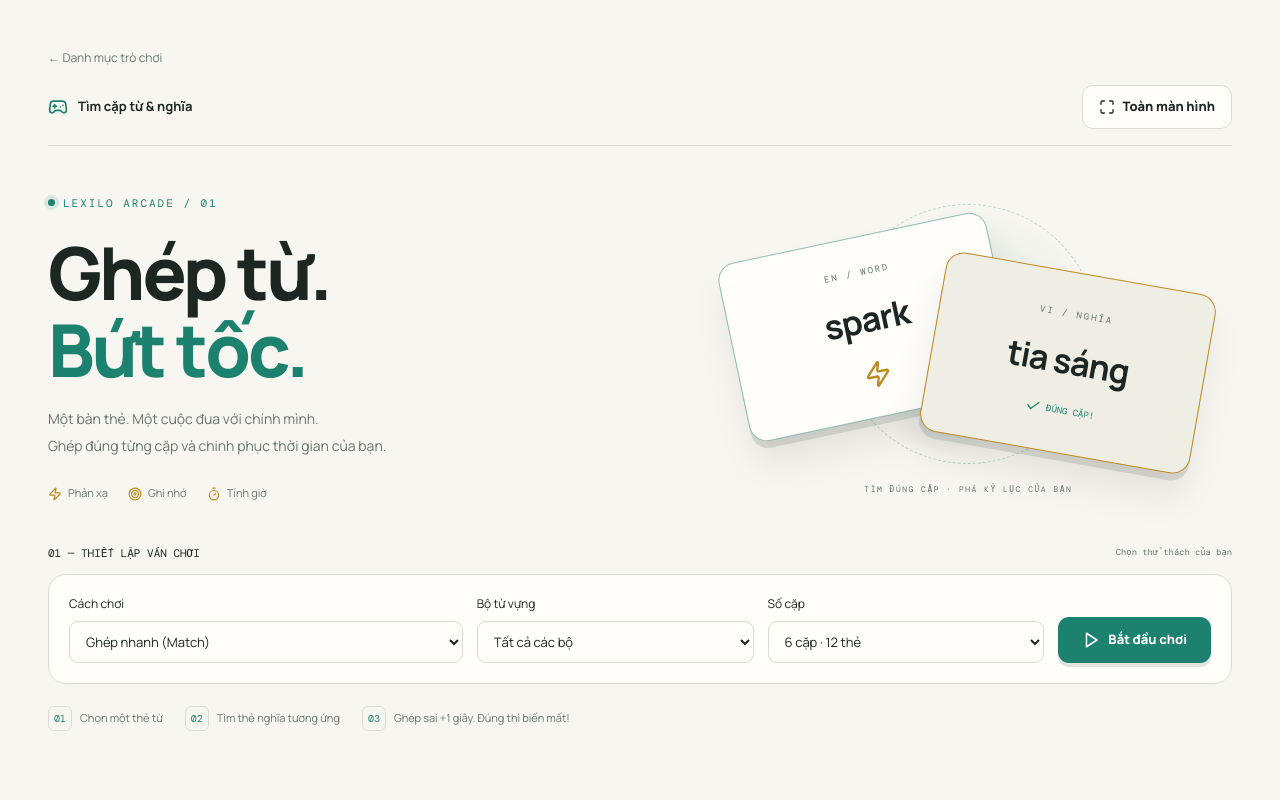
handles insufficient vocabulary and retries a failed request
Select "Lật thẻ ghi nhớ" in the dropdown labelled "Cách chơi" at (266, 642), box left=69, top=621, right=463, bottom=663
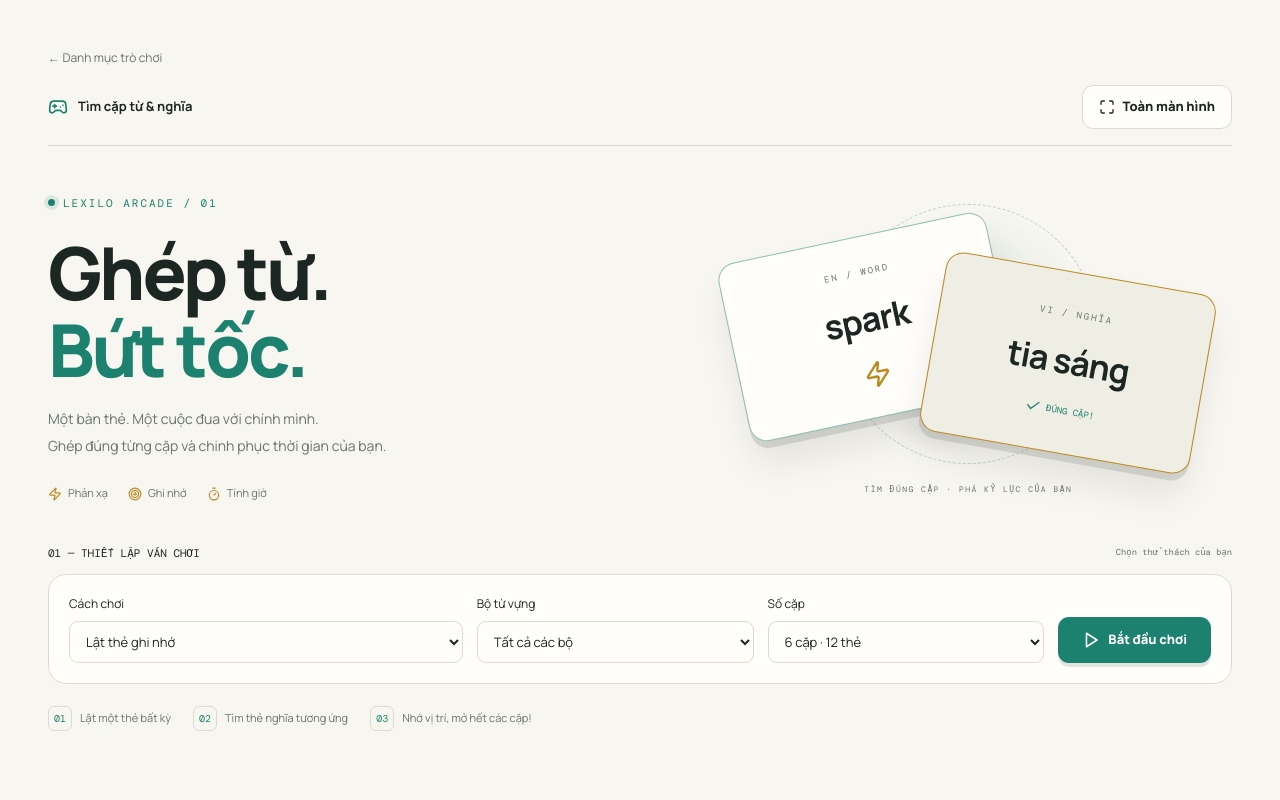
Click the button "Bắt đầu chơi" at (1135, 640), box left=1058, top=617, right=1211, bottom=663
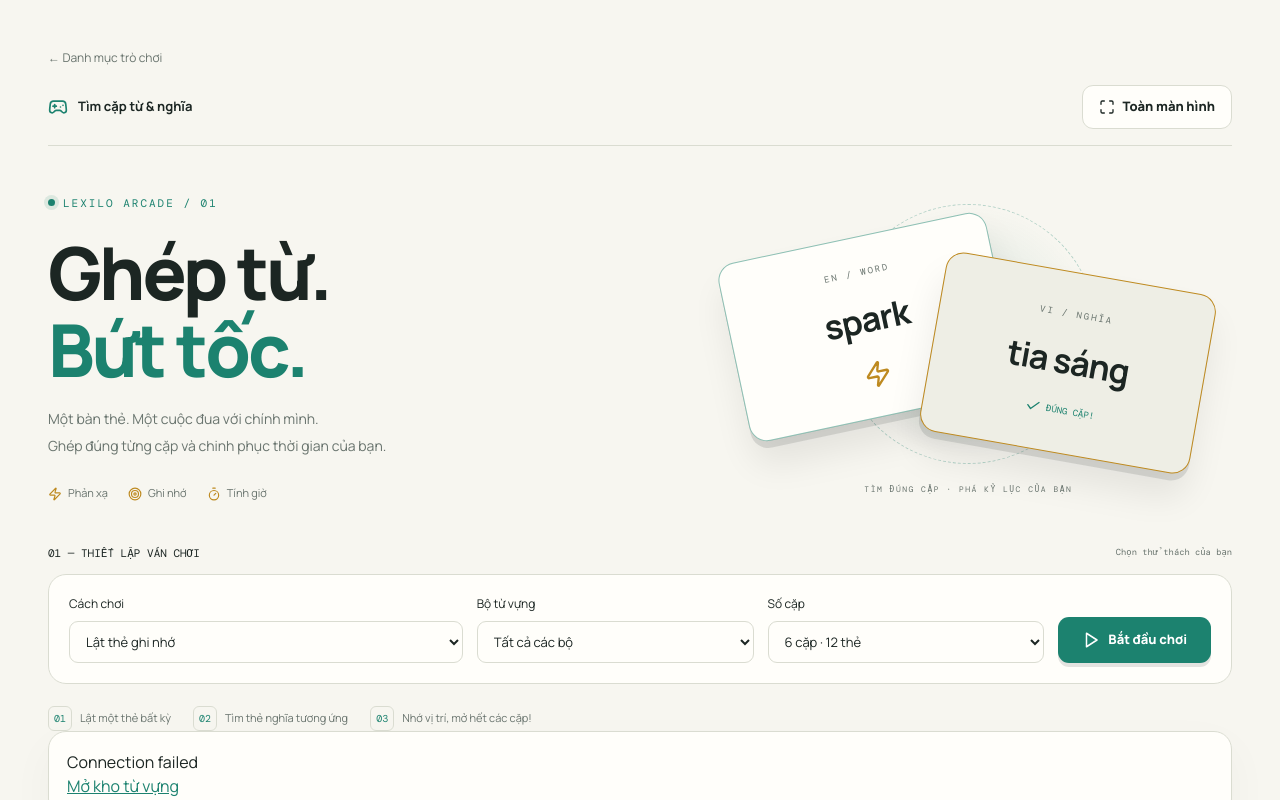
Now the message reads "Connection failed", box left=67, top=751, right=198, bottom=773
Click the button "Bắt đầu chơi" at (1135, 640), box left=1058, top=617, right=1211, bottom=663
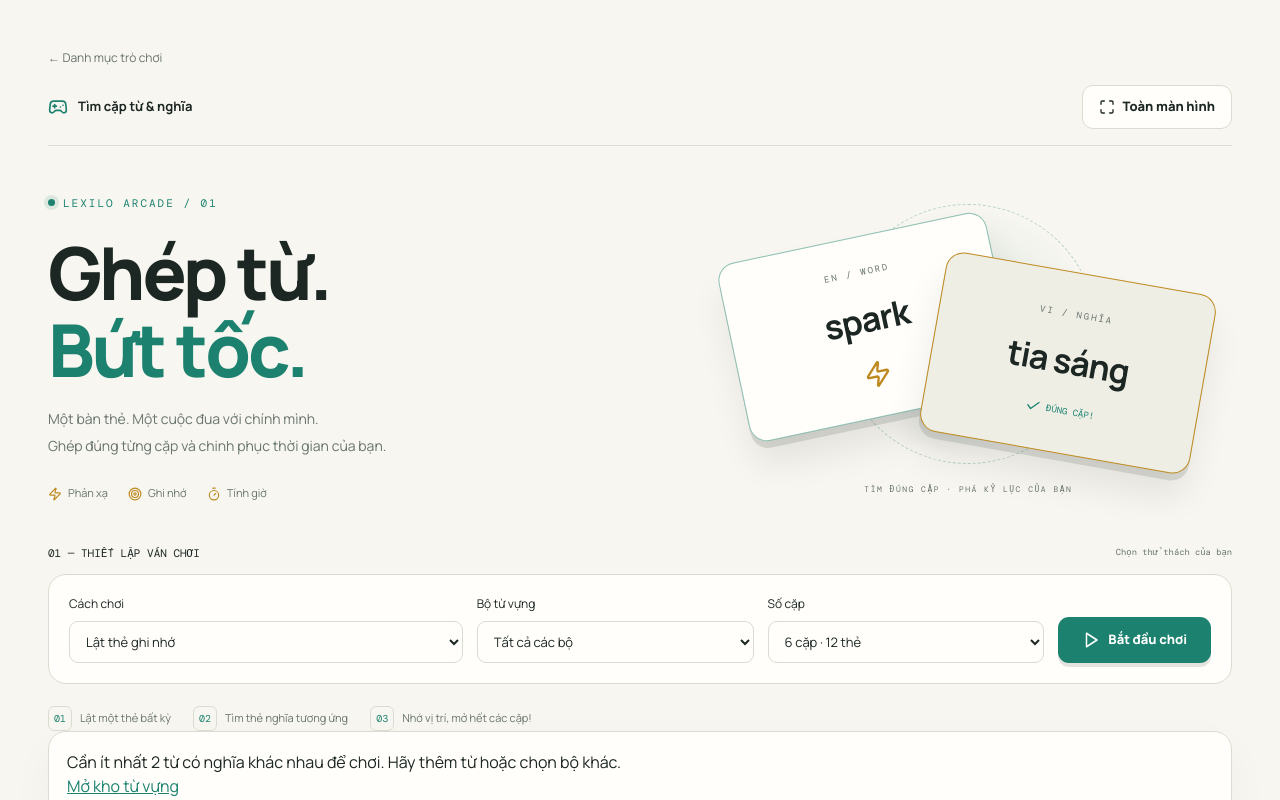
Now the message shows "Cần ít nhất 2 từ", box left=67, top=751, right=621, bottom=773
